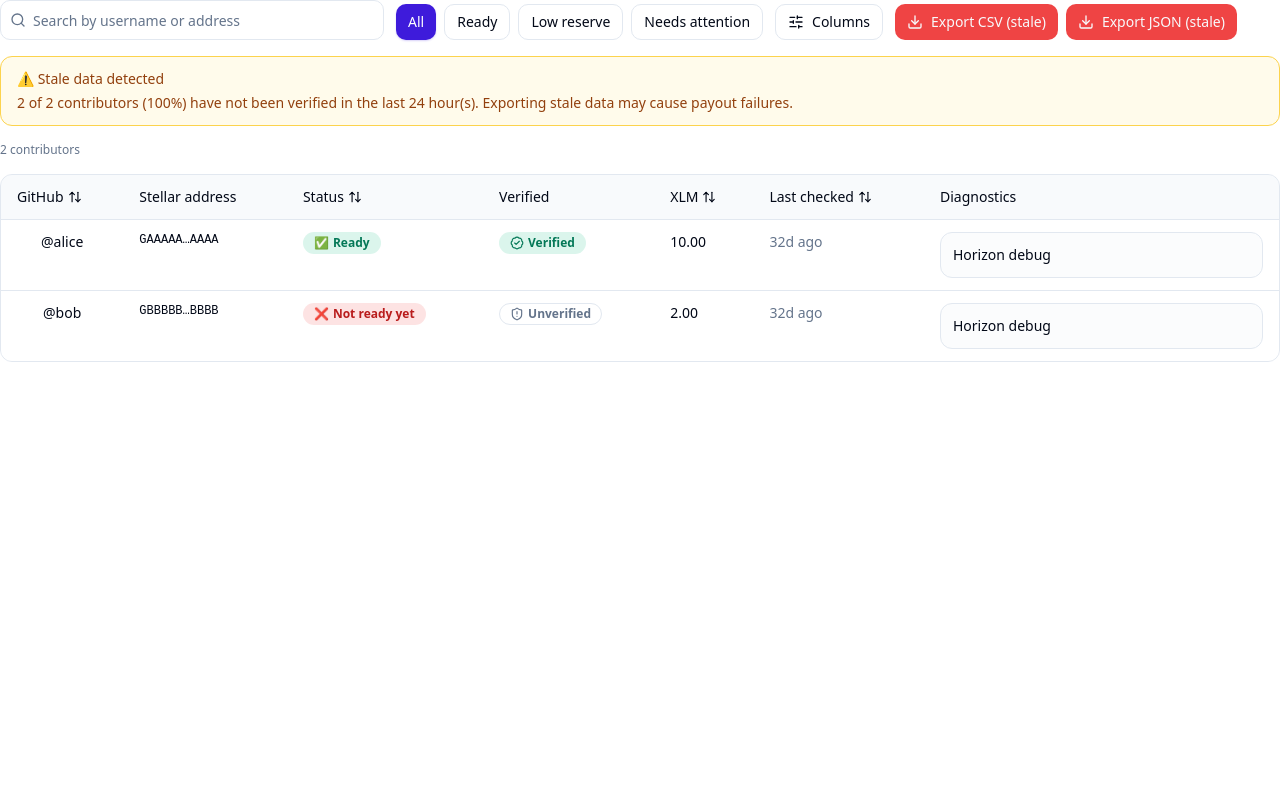
it: ContributorTable › export confirmation dialog › does not export when the confirmation is cancelled
The width and height of the screenshot is (1280, 800).
Click the button "Export CSV (stale)" at [976, 22], box [895, 4, 1058, 40]
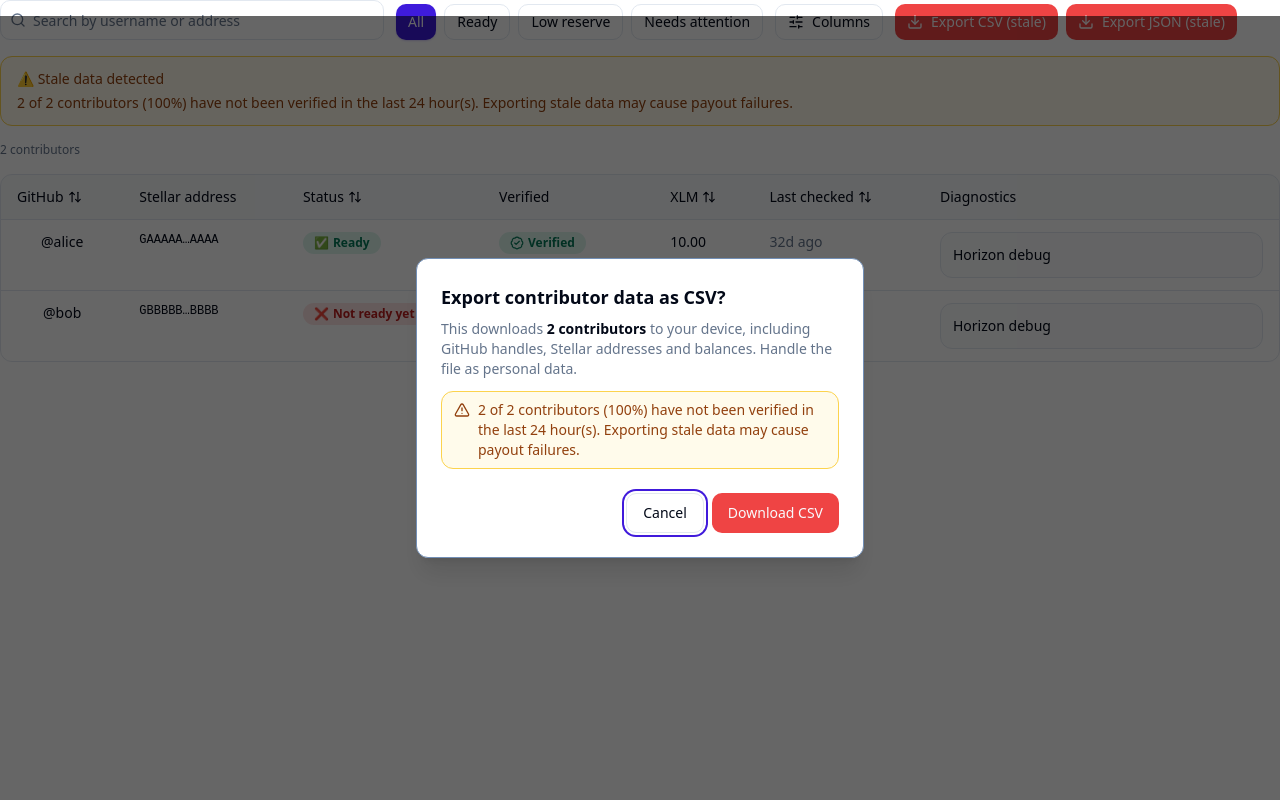
Press Escape
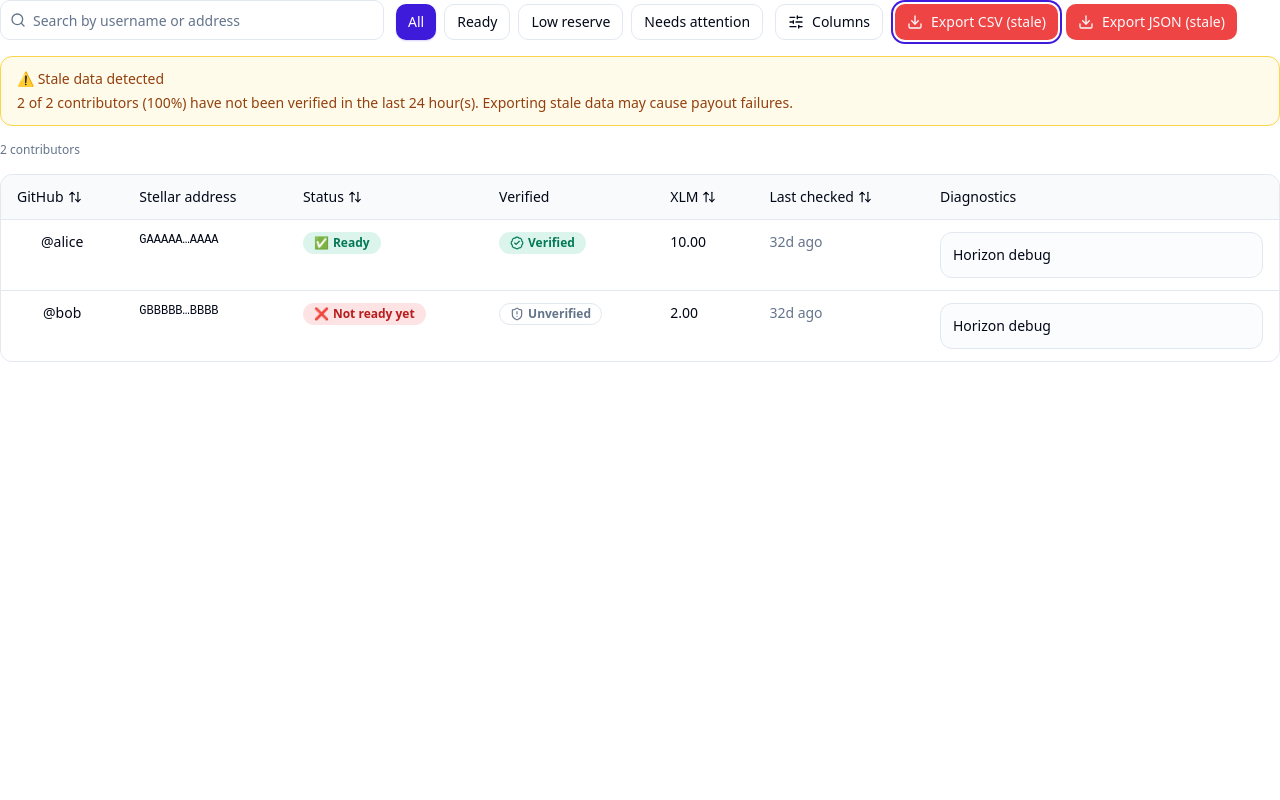
Now the dialog is gone
